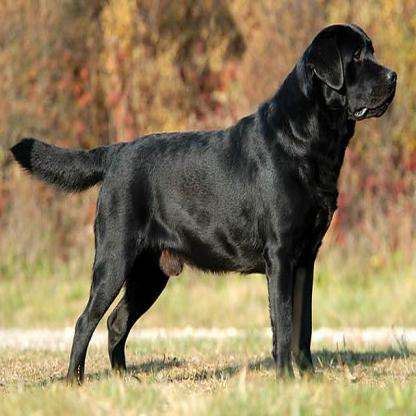dog: (12, 23, 396, 384)
